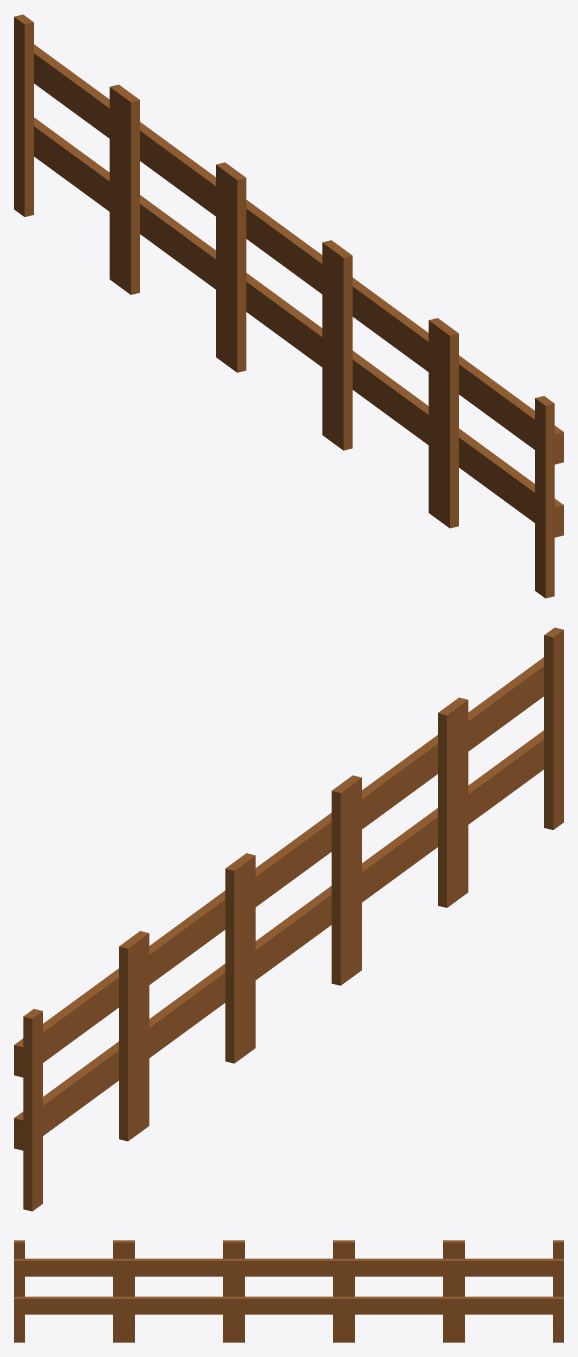
The model's file is Fence.fbx.
The picture shows the model from 3 angles, top to bottom: view 1: azimuth 30°, elevation 25°; view 2: azimuth 150°, elevation 25°; view 3: azimuth 270°, elevation 25°; orthographic projection. The views are drawn at different scales.
Visible parts, largest first — view 1: Cube; view 2: Cube; view 3: Cube.
Boxes of the visible parts, x1,y1,x2,y2 form: Cube: (14, 14, 563, 598); Cube: (14, 627, 563, 1211); Cube: (14, 1240, 563, 1342).
Bounding box in the file's own units: 20 × 200 × 1000.
